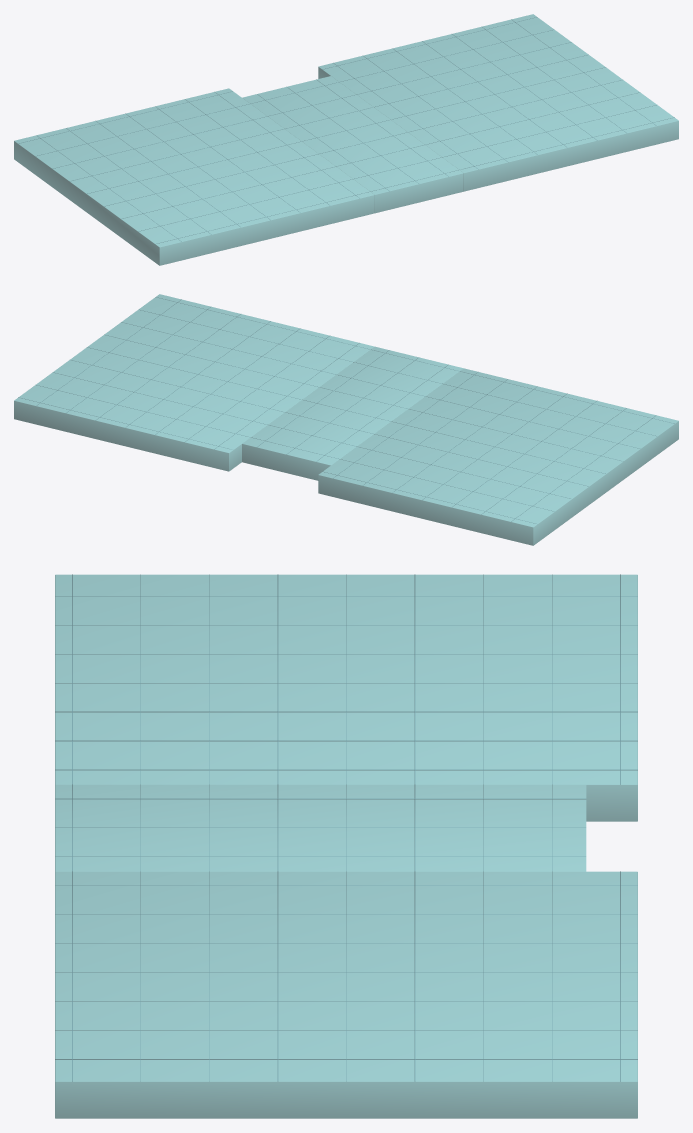
File: atlantis_district_market.glb
3 renders of one model, top to bottom at view 1: azimuth 30°, elevation 25°; view 2: azimuth 150°, elevation 25°; view 3: azimuth 270°, elevation 25°, orthographic. The views are drawn at different scales.
Parts seen in each view (by area): view 1: atlantis_district_market_surface; view 2: atlantis_district_market_surface; view 3: atlantis_district_market_surface.
Part boxes in pixels (box(x1,y1,x2,y2)): atlantis_district_market_surface: box(14, 14, 678, 265); atlantis_district_market_surface: box(14, 294, 678, 545); atlantis_district_market_surface: box(55, 574, 637, 1118).
Size of the model in its own units: 70 by 2.42 by 34.
